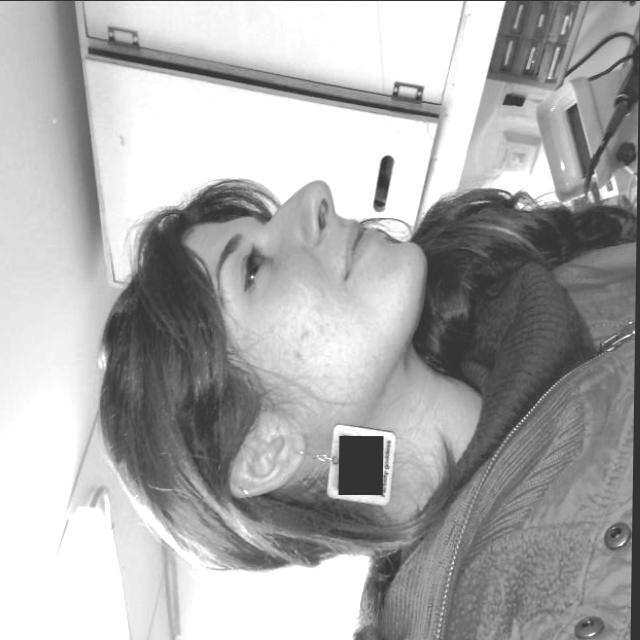qr_code: (340, 435, 385, 494)
